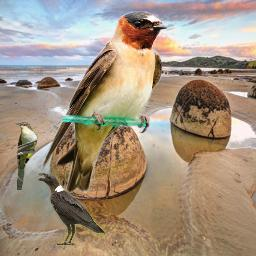Crow: (36, 172, 106, 246)
Cuckoo: (15, 122, 38, 190)
Swallow: (40, 11, 168, 193)
